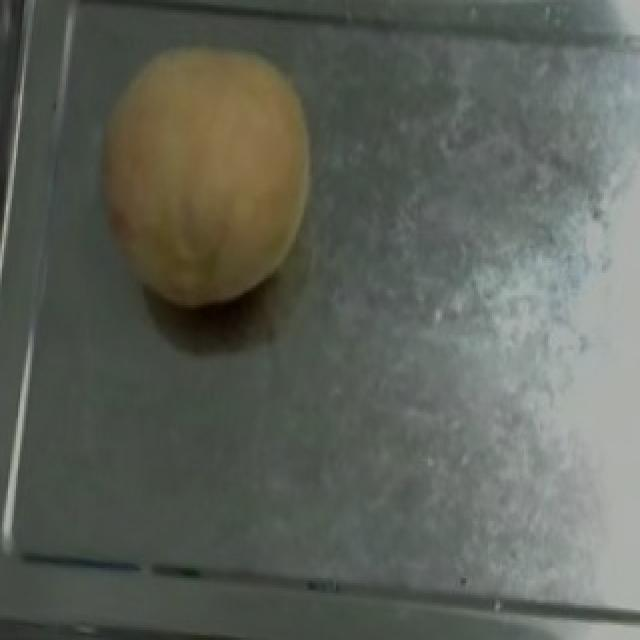Fruit: (74, 28, 326, 322)
